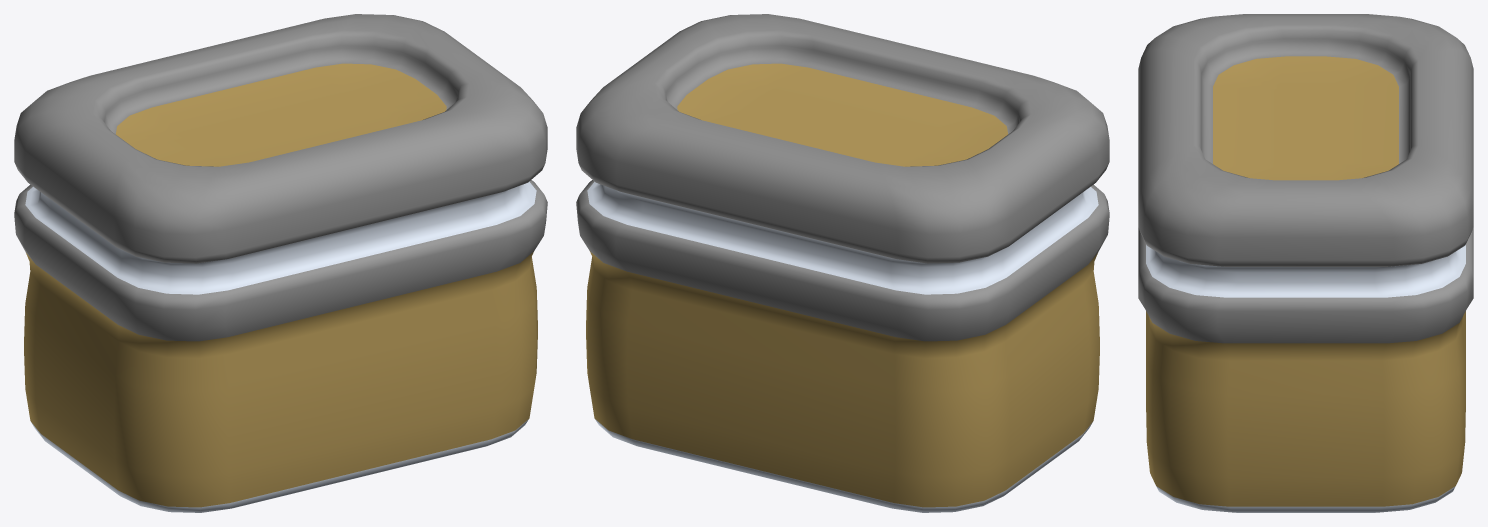
File: SM_Building_03_Version_04_Part_04.fbx
The picture shows the model from 3 angles, left to right: view 1: azimuth 30°, elevation 25°; view 2: azimuth 150°, elevation 25°; view 3: azimuth 270°, elevation 25°; orthographic projection. The views are drawn at different scales.
Parts seen in each view (by area): view 1: SM_Building_03_Version_04_Part_04; view 2: SM_Building_03_Version_04_Part_04; view 3: SM_Building_03_Version_04_Part_04.
Part boxes in pixels (box(x1,y1,x2,y2)): SM_Building_03_Version_04_Part_04: box(14, 14, 547, 512); SM_Building_03_Version_04_Part_04: box(576, 14, 1109, 512); SM_Building_03_Version_04_Part_04: box(1138, 14, 1473, 512).
Size of the model in its own units: 4561 by 3345 by 3200.
